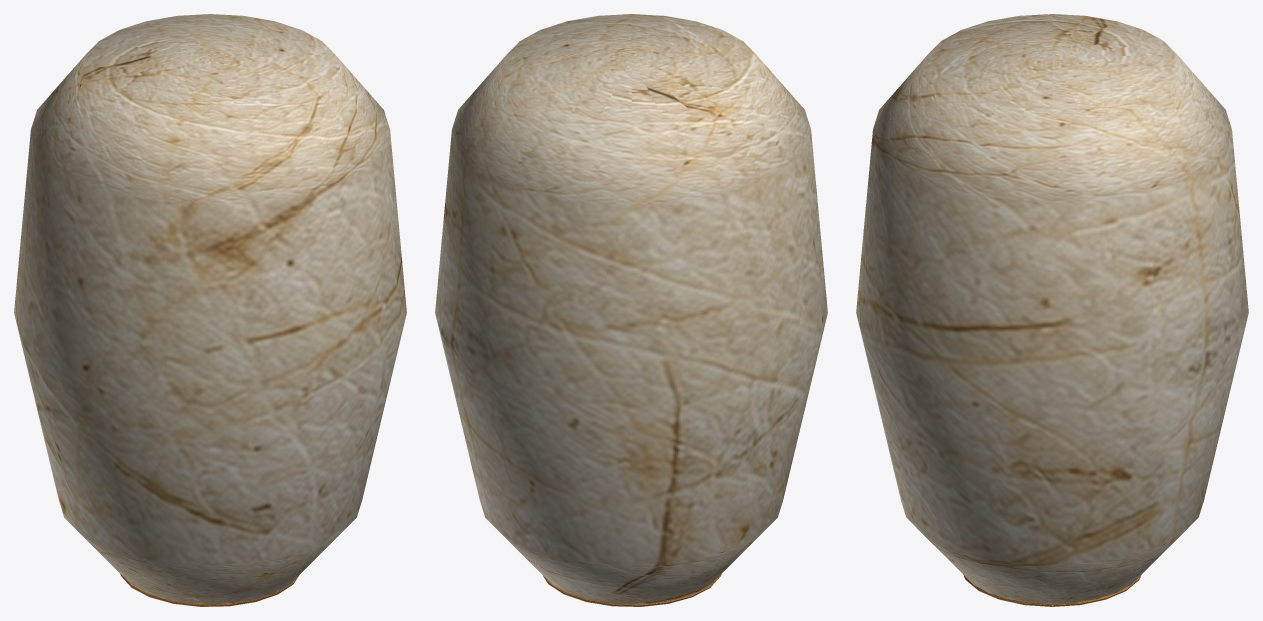
Rendered from prop_fanush.glb.
3 views of the same model, side by side, from view 1: azimuth 30°, elevation 25°; view 2: azimuth 150°, elevation 25°; view 3: azimuth 270°, elevation 25° (orthographic).
Visible parts, largest first — view 1: prop_fanush; view 2: prop_fanush; view 3: prop_fanush.
Boxes of the visible parts, x1,y1,x2,y2 form: prop_fanush: [14, 14, 406, 606]; prop_fanush: [435, 14, 827, 606]; prop_fanush: [856, 14, 1248, 606].
Bounding box in the file's own units: 0.6976 × 1 × 0.6976.
4 materials, 3 textured.
